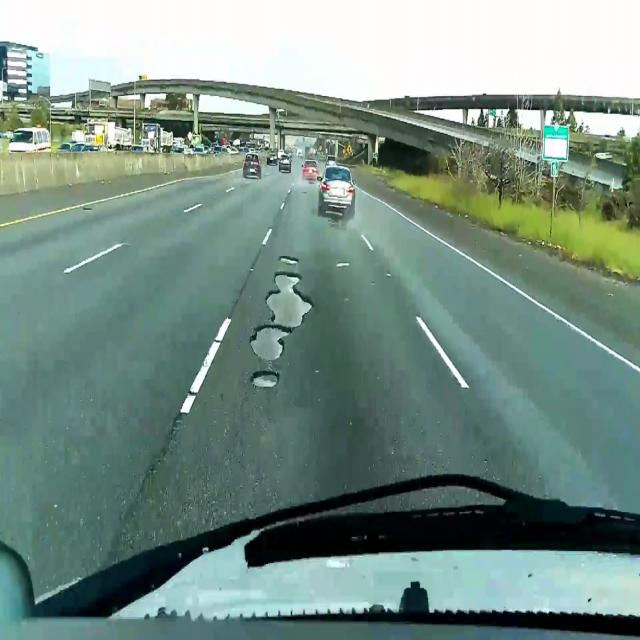Pothole: (262, 270, 314, 330), (250, 327, 289, 364), (249, 370, 281, 388), (278, 254, 299, 266), (82, 206, 93, 211), (300, 191, 308, 194)
